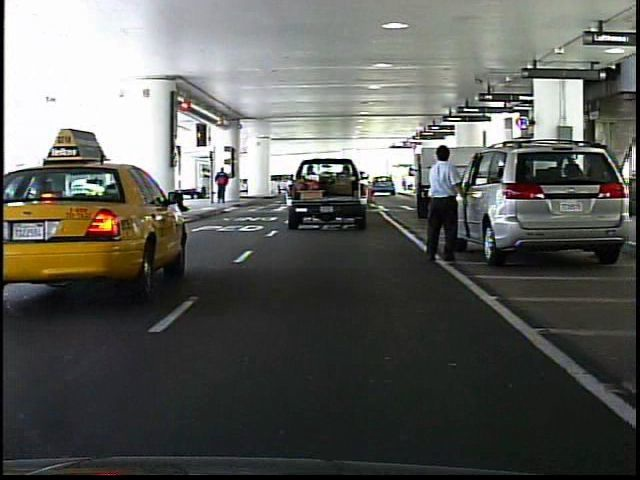person: (416, 141, 470, 271), (212, 164, 231, 206)
